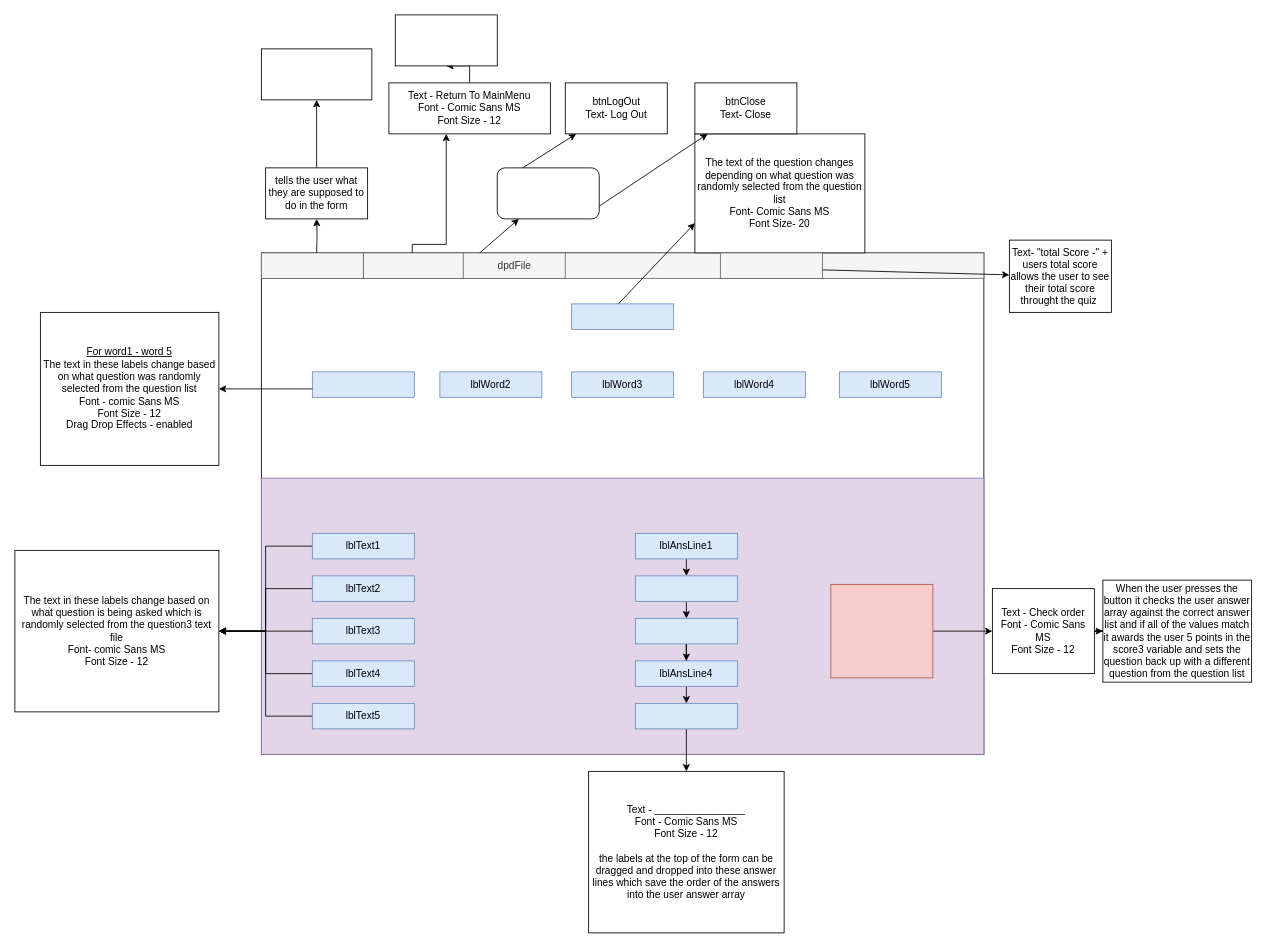
Image size: 1267x948. Some labels were removed from this diagram. Each missing label, with the centre of its shape:
brings the user back to the main menu and sets a variable so they can go back: (445,40)
btnCheck: (881,631)
btnHelp: (312,265)
btnReturn: (414,265)
lblAnsLine2: (686,588)
lblAnsLine3: (686,631)
lblAnsLine5: (686,716)
lblQuestion: (622,316)
lblRunningScore: (771,265)
lblWord1: (363,384)
Text - Help Font - Comic Sans MS Font Size - 12: (316,74)
Text- File contains btnClose and BtnLogOut: (547,193)
